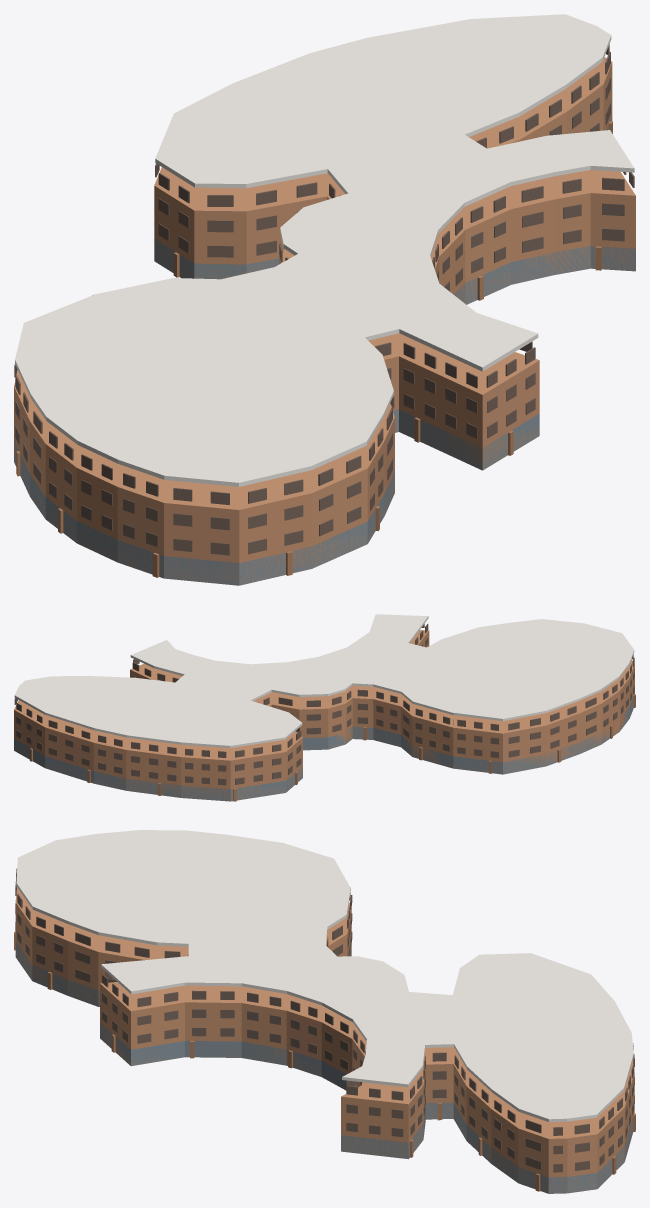
Rendered from activity.glb.
3 renders of one model, top to bottom at view 1: azimuth 30°, elevation 25°; view 2: azimuth 150°, elevation 25°; view 3: azimuth 270°, elevation 25°, orthographic. The views are drawn at different scales.
Visible parts, largest first — view 1: activity; view 2: activity; view 3: activity.
Boxes of the visible parts, x1,y1,x2,y2 form: activity: (14, 14, 635, 585); activity: (14, 614, 635, 801); activity: (14, 830, 635, 1193).
Size of the model in its own units: 144 by 17.2 by 130.
